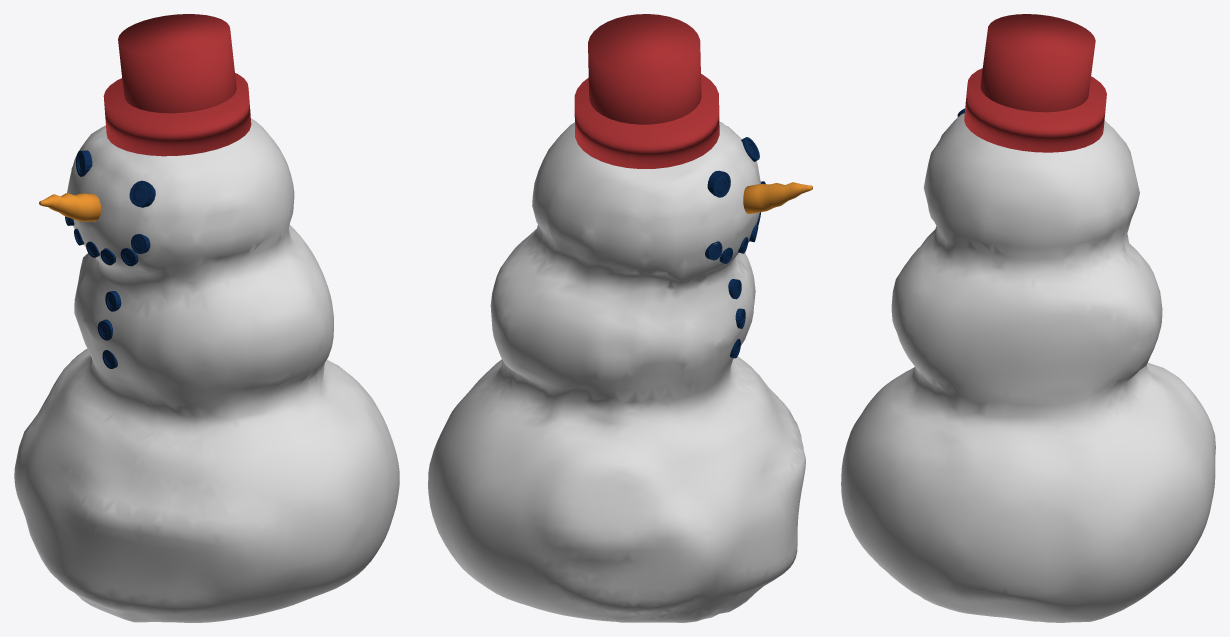
File: snowman1.glb
3 renders of one model, left to right at view 1: azimuth 30°, elevation 25°; view 2: azimuth 150°, elevation 25°; view 3: azimuth 270°, elevation 25°, orthographic. The views are drawn at different scales.
Parts seen in each view (by area): view 1: snowman, Cylinder.012, Cylinder.013, Cylinder.011, Cylinder; view 2: snowman, Cylinder.012, Cylinder.013, Cylinder.011; view 3: snowman, Cylinder.012, Cylinder.013.
Part boxes in pixels (x1,y1,x2,y2): snowman: (14, 118, 399, 622); Cylinder.012: (118, 14, 236, 113); Cylinder.013: (103, 73, 251, 156); Cylinder.011: (39, 193, 101, 221); Cylinder: (129, 180, 155, 207); snowman: (428, 121, 805, 622); Cylinder.012: (588, 14, 701, 124); Cylinder.013: (574, 74, 719, 168); Cylinder.011: (743, 182, 812, 214); snowman: (841, 113, 1215, 622); Cylinder.012: (980, 14, 1095, 112); Cylinder.013: (964, 68, 1106, 152).
Size of the model in its own units: 1.78 by 2.8 by 1.76.
